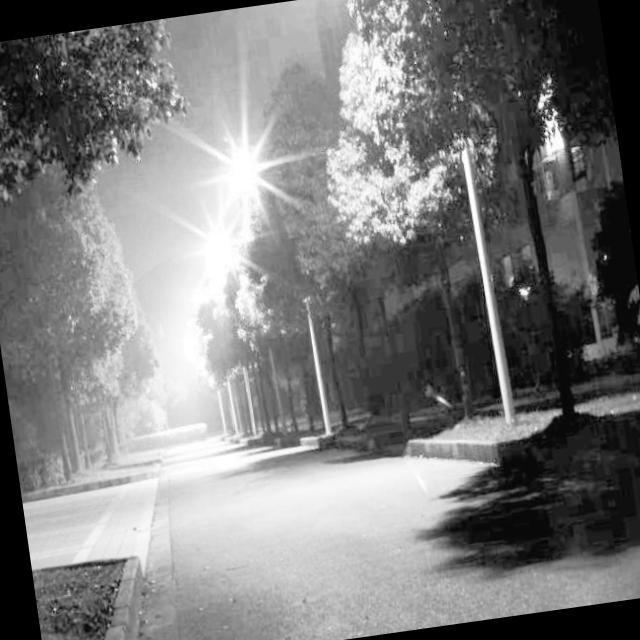Light: (219, 134, 270, 201), (206, 225, 241, 268), (185, 322, 207, 349)
